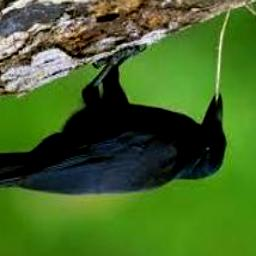Crow: (0, 44, 227, 197)
